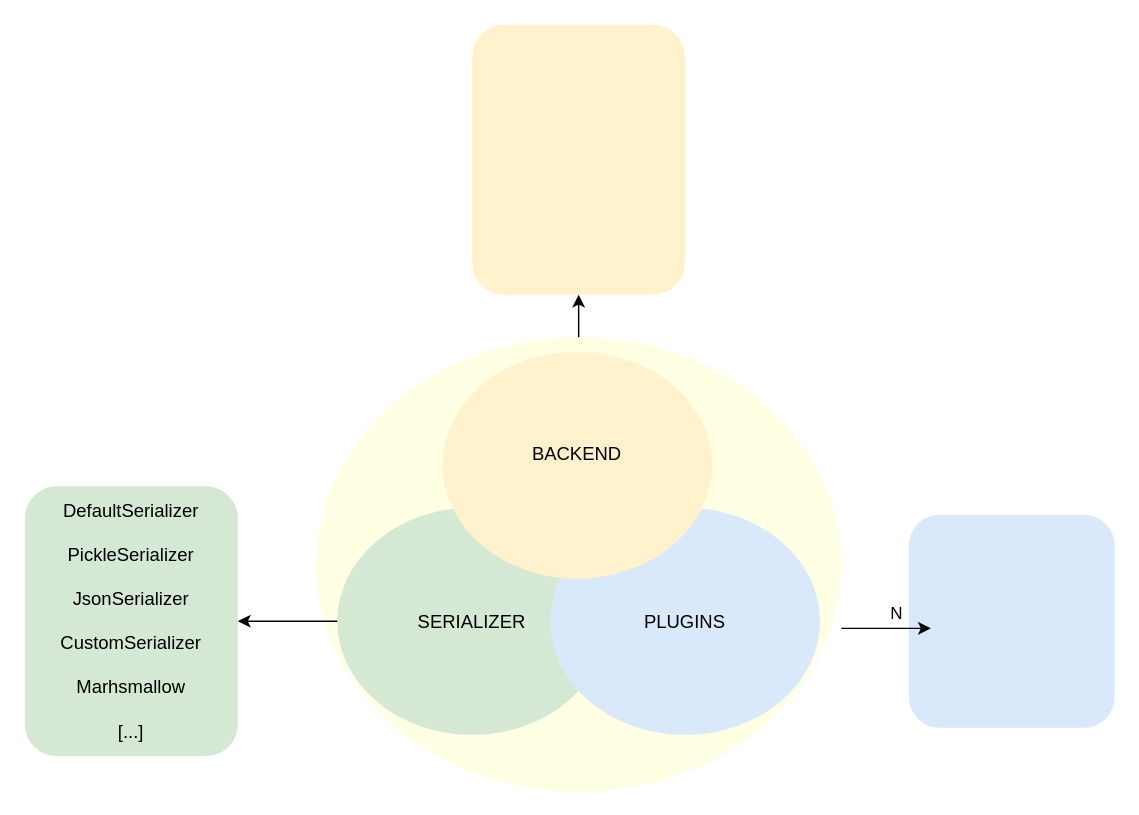
This 1139x815 diagram has some shape labels left out. The shapes that lost their labels are listed below. From the top down, each one's centre as x and y in pixels, then its label:
the point at 577,159: SimpleMemory Redis Memcached Postgres (*) Mysql (*) [...]
the point at 1011,620: TimingPlugin HitMissRatioPlugin CustomPlugin [...]
